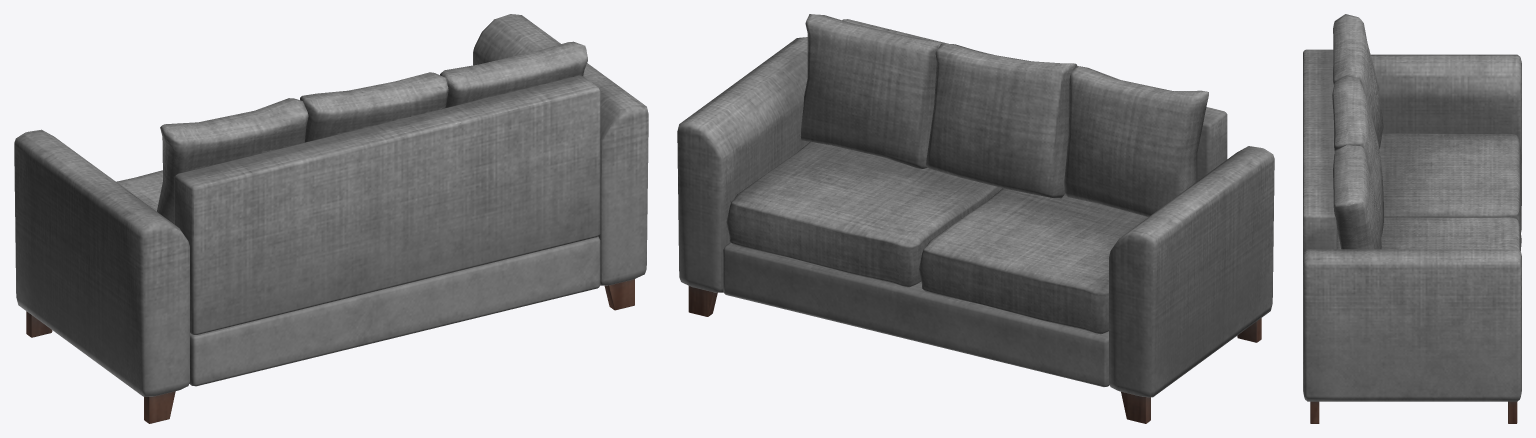
The model's file is Sofa 2.FBX.
3 renders of one model, left to right at view 1: azimuth 30°, elevation 25°; view 2: azimuth 150°, elevation 25°; view 3: azimuth 270°, elevation 25°, orthographic. The views are drawn at different scales.
Parts seen in each view (by area): view 1: Sofa 2; view 2: Sofa 2; view 3: Sofa 2.
Boxes of the visible parts, box(x1,y1,x2,y2) form: Sofa 2: box(14, 14, 648, 423); Sofa 2: box(677, 14, 1274, 423); Sofa 2: box(1303, 14, 1521, 423).
Size of the model in its own units: 245 by 124 by 109.
